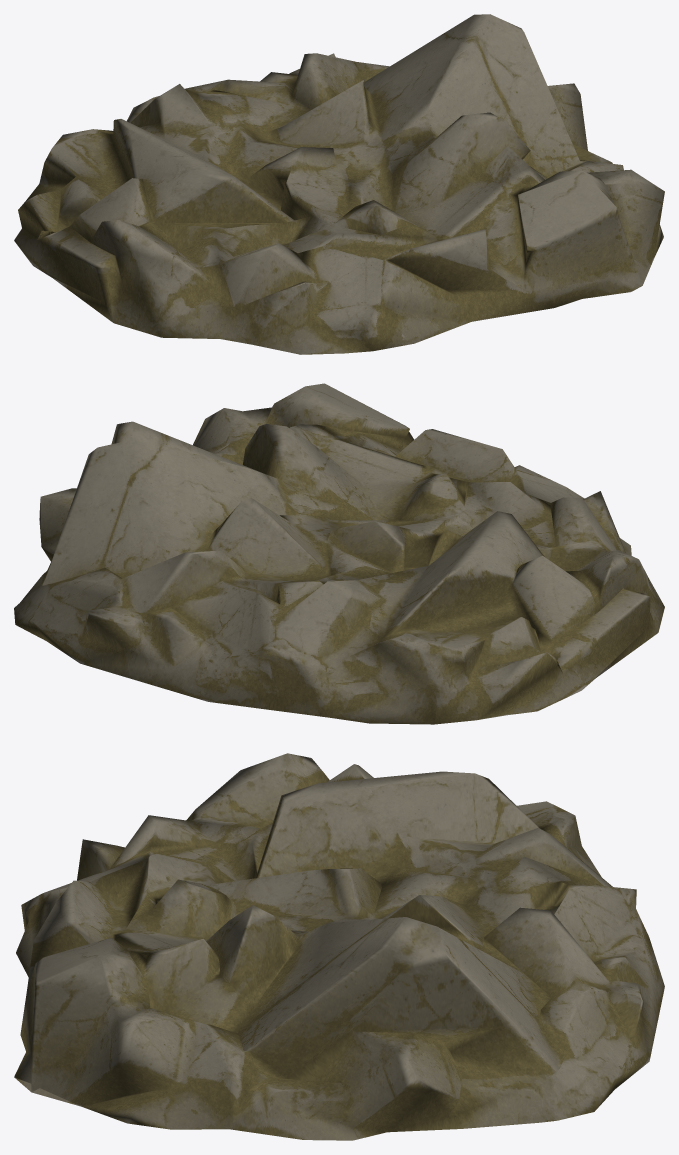
The picture shows the model from 3 angles, top to bottom: view 1: azimuth 30°, elevation 25°; view 2: azimuth 150°, elevation 25°; view 3: azimuth 270°, elevation 25°; orthographic projection. The views are drawn at different scales.
Parts seen in each view (by area): view 1: JungleRubblePile_A_LOD3; view 2: JungleRubblePile_A_LOD3; view 3: JungleRubblePile_A_LOD3.
Part boxes in pixels (x1,y1,x2,y2): JungleRubblePile_A_LOD3: [14, 14, 664, 354]; JungleRubblePile_A_LOD3: [14, 383, 664, 724]; JungleRubblePile_A_LOD3: [14, 753, 664, 1140].
Size of the model in its own units: 6609 by 1783 by 5856.
1 material, 1 textured.
